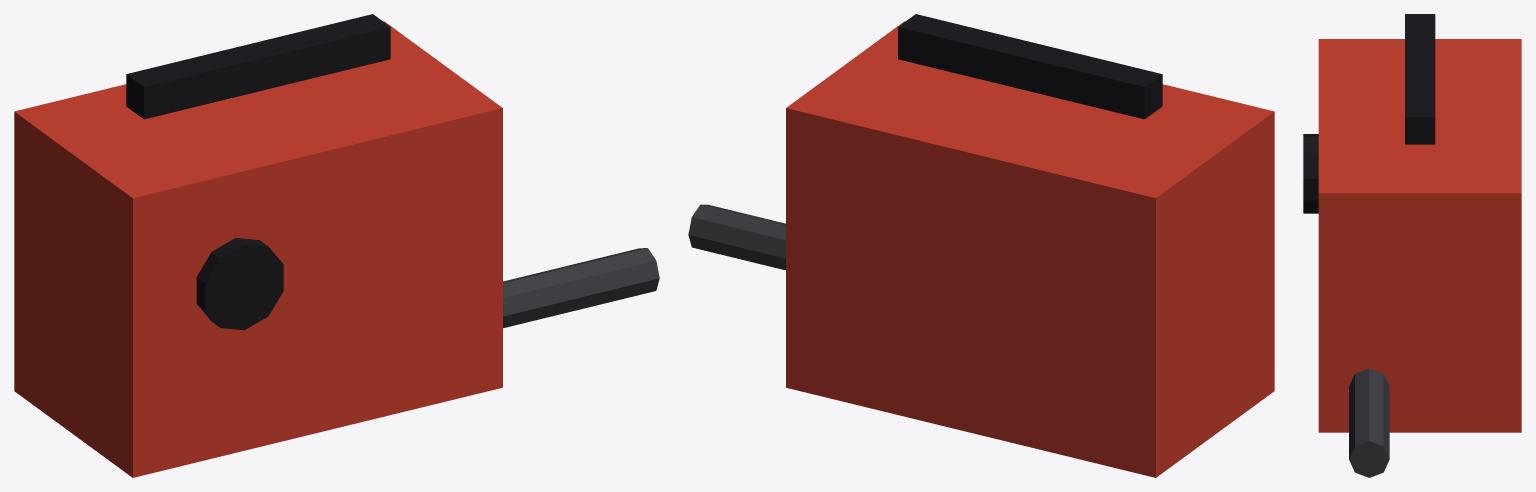
Rendered from super_welder.glb.
3 renders of one model, left to right at view 1: azimuth 30°, elevation 25°; view 2: azimuth 150°, elevation 25°; view 3: azimuth 270°, elevation 25°, orthographic. The views are drawn at different scales.
Parts seen in each view (by area): view 1: box_welder_red, handle_black, torch_welder_torch, dial_black; view 2: box_welder_red, handle_black, torch_welder_torch; view 3: box_welder_red, torch_welder_torch, handle_black, dial_black.
Boxes of the visible parts, x1,y1,x2,y2 form: box_welder_red: (14,21,502,477); handle_black: (126,14,390,119); torch_welder_torch: (503,248,659,328); dial_black: (196,238,283,330); box_welder_red: (786,21,1274,477); handle_black: (898,14,1162,119); torch_welder_torch: (688,204,785,270); box_welder_red: (1318,39,1521,432); torch_welder_torch: (1349,368,1389,477); handle_black: (1405,14,1435,144); dial_black: (1303,134,1318,213).
Bounding box in the file's own units: 0.53 × 0.315 × 0.215.
